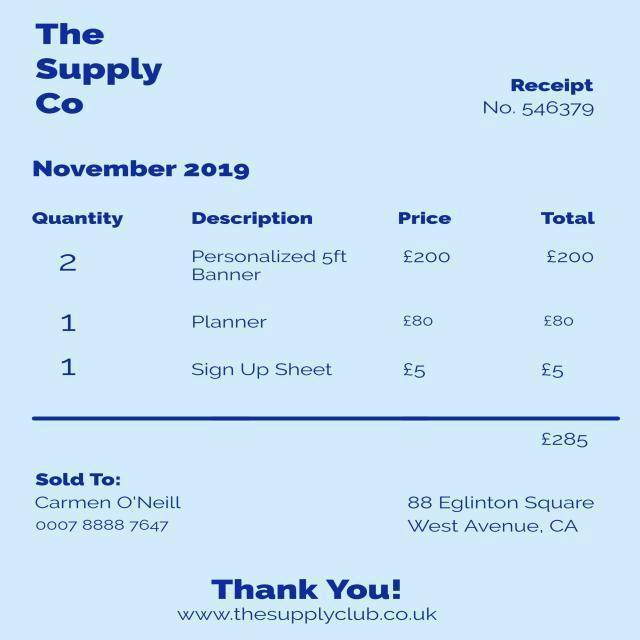ROI: (14, 201, 624, 453), (389, 469, 626, 551), (174, 571, 453, 633), (20, 13, 171, 120), (24, 464, 194, 559), (461, 56, 611, 135), (24, 141, 259, 187)
